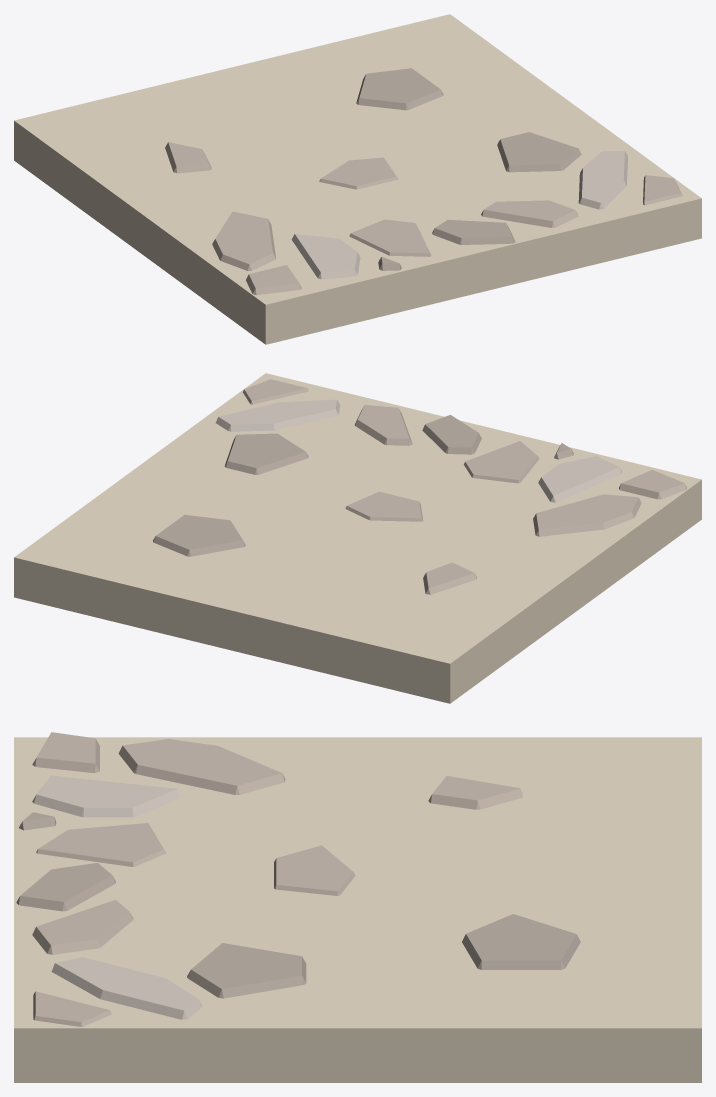
File: Cobblestone1B.fbx
3 renders of one model, top to bottom at view 1: azimuth 30°, elevation 25°; view 2: azimuth 150°, elevation 25°; view 3: azimuth 270°, elevation 25°, orthographic. The views are drawn at different scales.
Parts seen in each view (by area): view 1: object1; view 2: object1; view 3: object1.
Boxes of the visible parts, left/top/right/bottom form: object1: left=14, top=14, right=701, bottom=344; object1: left=14, top=373, right=701, bottom=703; object1: left=14, top=732, right=701, bottom=1082.
Size of the model in its own units: 100 by 10 by 100.
